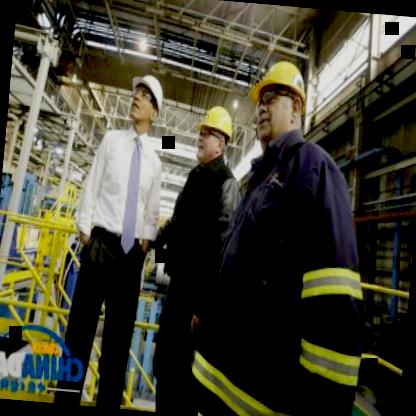helmet: (241, 40, 316, 162), (121, 66, 170, 138), (190, 100, 240, 170)
